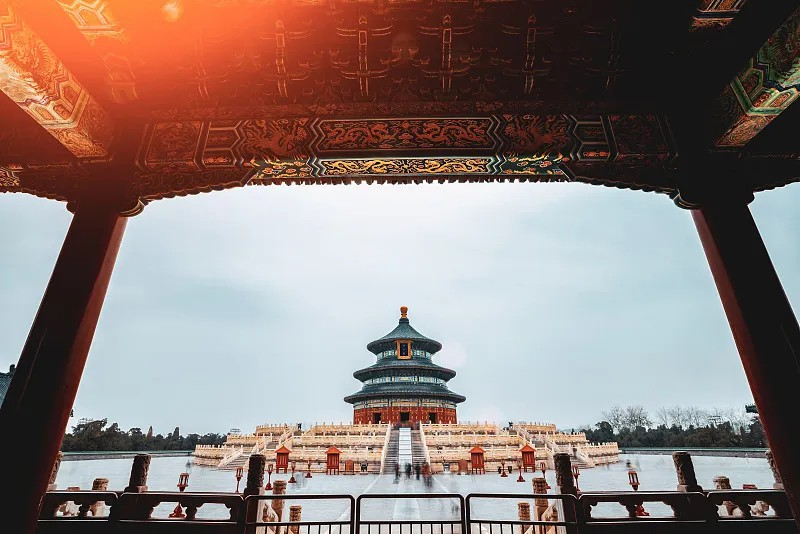Heaven: (343, 305, 465, 428)
